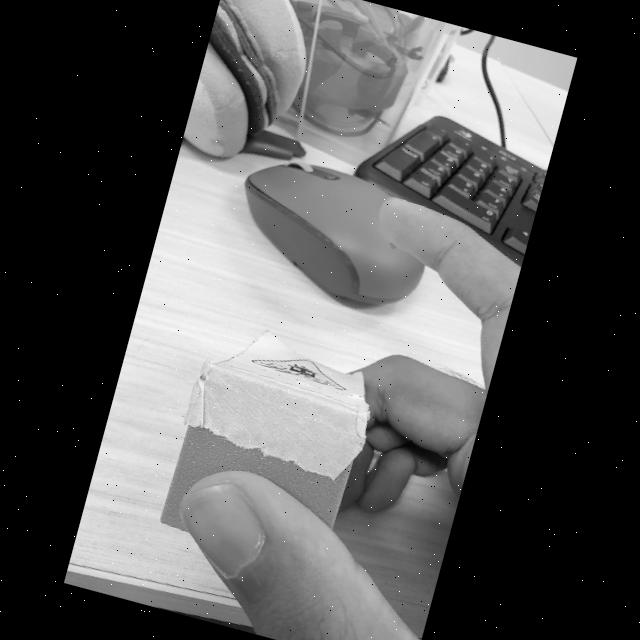Tsunami: (252, 358, 345, 390)
